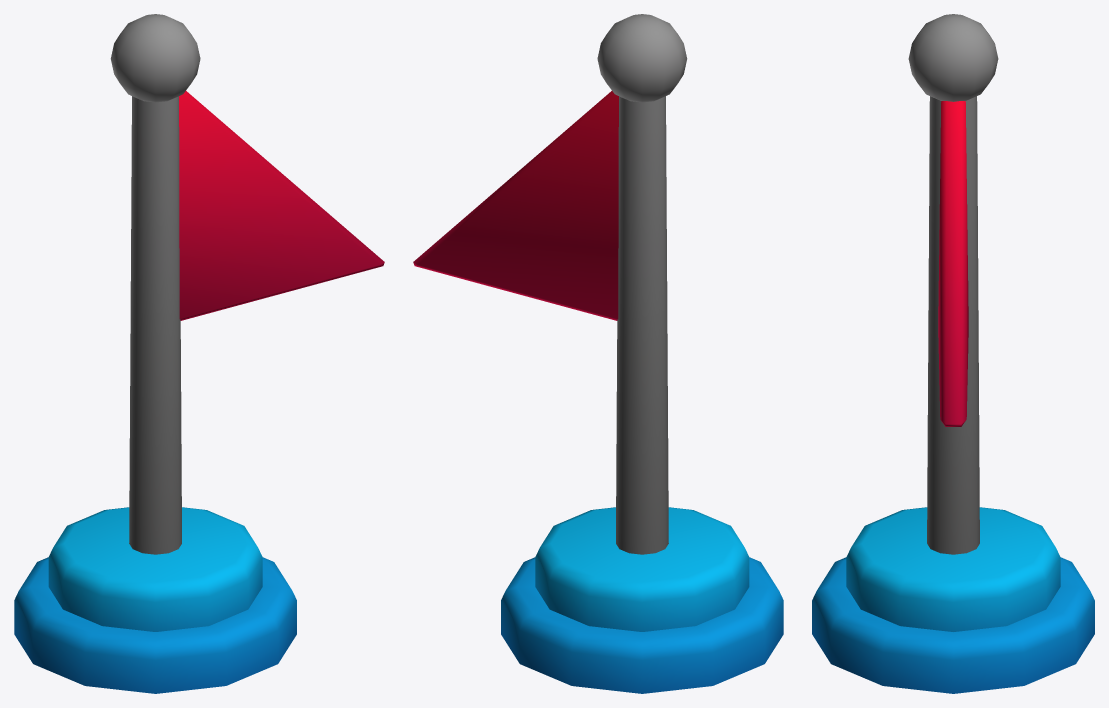
File: Props_Flag_01.fbx
3 views of the same model, side by side, from view 1: azimuth 30°, elevation 25°; view 2: azimuth 150°, elevation 25°; view 3: azimuth 270°, elevation 25° (orthographic).
Visible parts, largest first — view 1: Props_Flag_01; view 2: Props_Flag_01; view 3: Props_Flag_01.
Boxes of the visible parts, box(x1,y1,x2,y2) form: Props_Flag_01: box(14, 14, 384, 693); Props_Flag_01: box(413, 14, 783, 693); Props_Flag_01: box(812, 14, 1094, 693).
Bounding box in the file's own units: 67.1 × 114 × 47.27.
